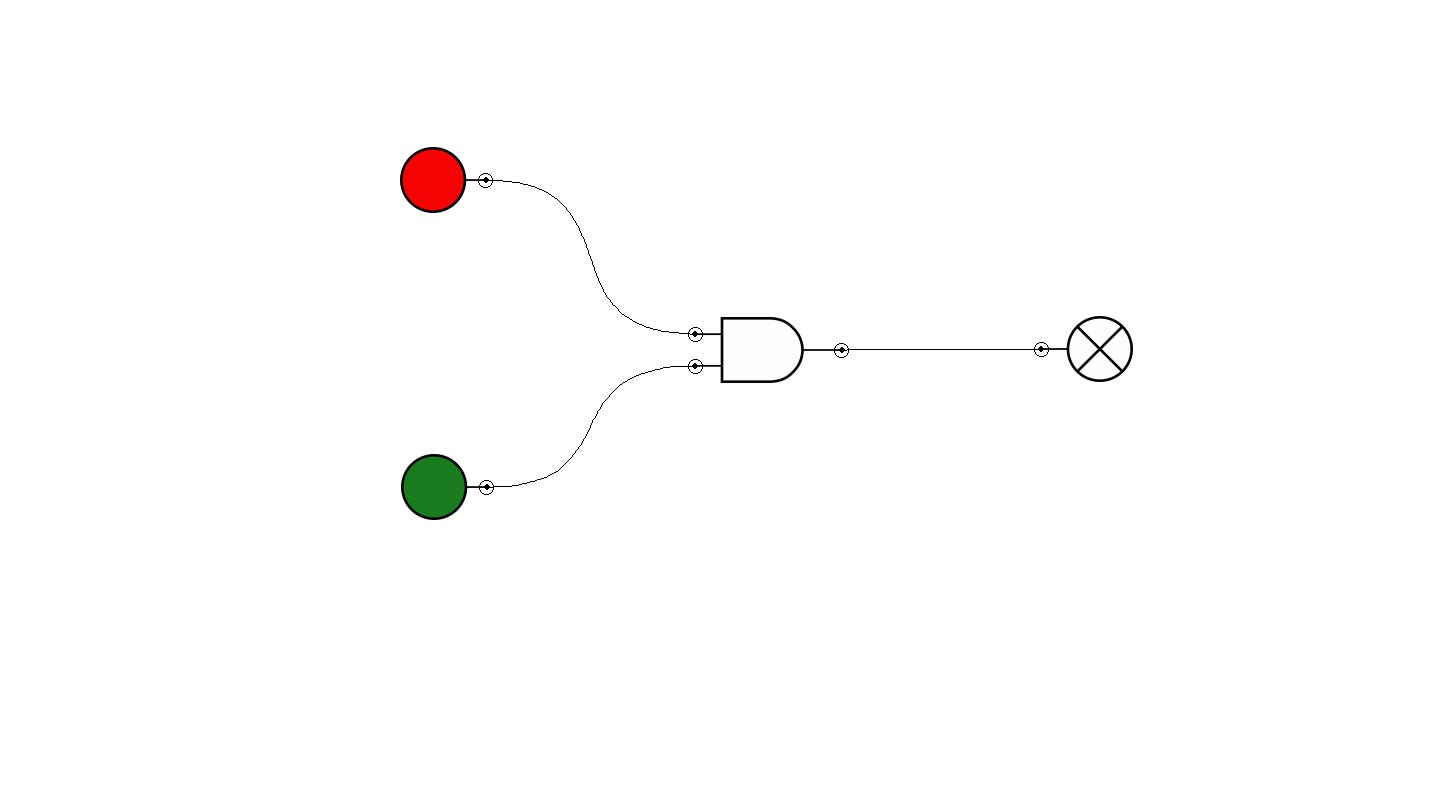and: (688, 317, 849, 383)
bulb: (1034, 316, 1133, 382)
switch_False: (400, 147, 493, 213)
switch_True: (401, 454, 494, 520)
